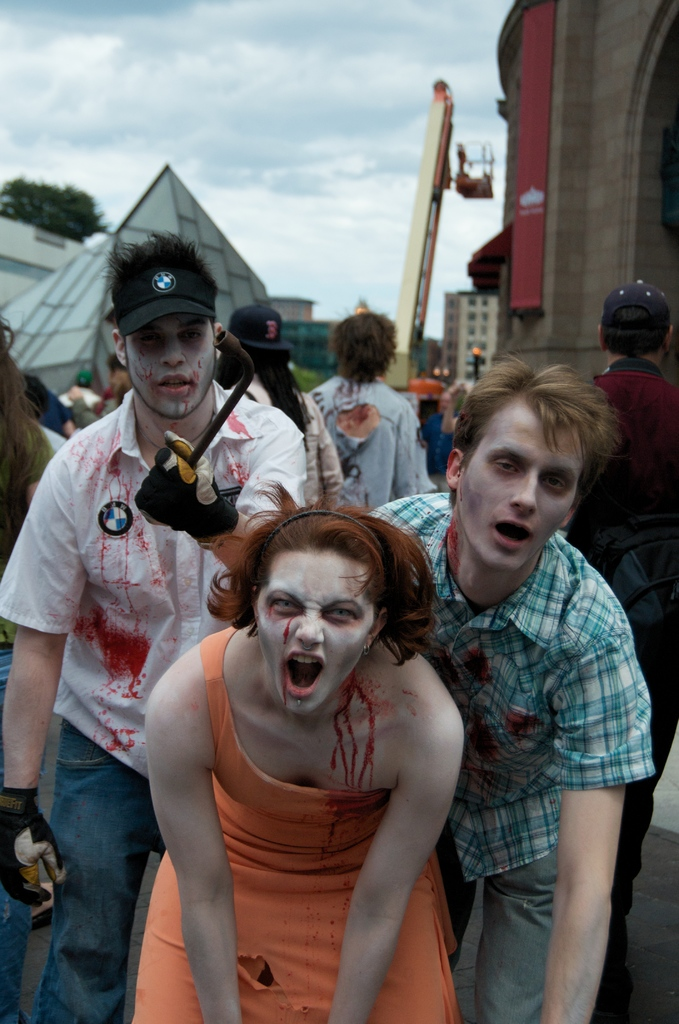Human_hand: (135, 430, 227, 540), (0, 788, 69, 910)
